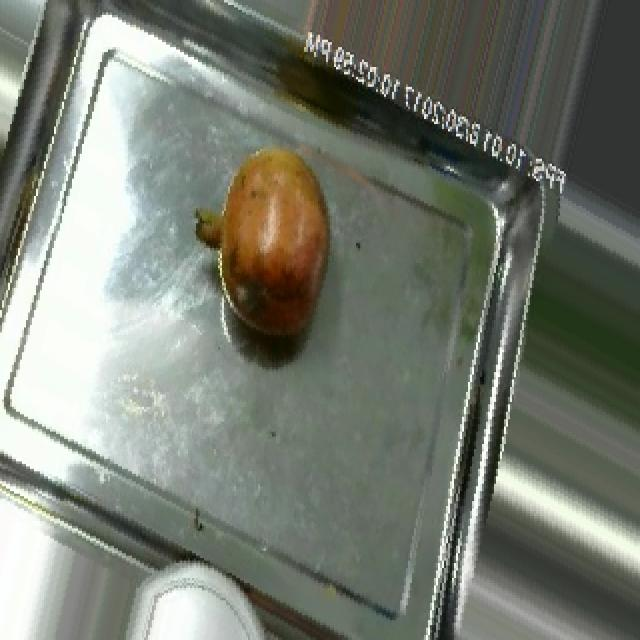fruit: (168, 129, 354, 372)
